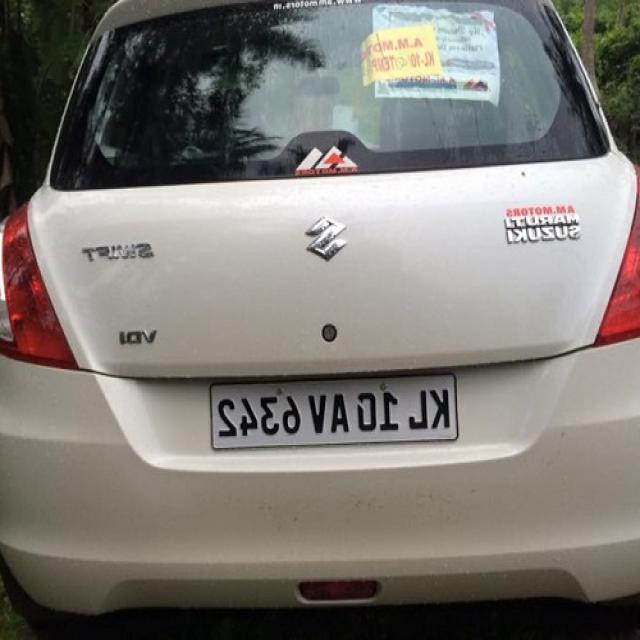number-plate: (207, 363, 470, 476)
